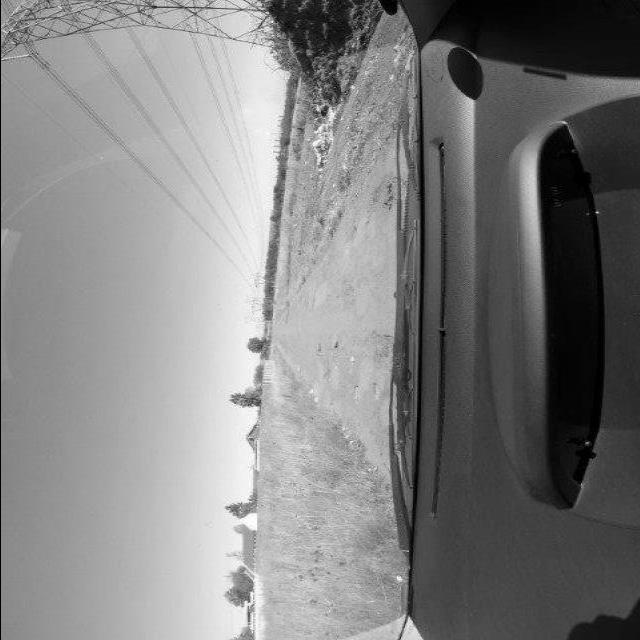lubang: (365, 323, 391, 378), (370, 165, 396, 214), (311, 342, 333, 382), (366, 380, 384, 406), (347, 381, 363, 408), (330, 338, 340, 367)
